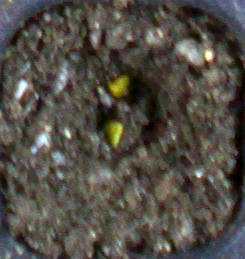pepper seed: (41, 44, 164, 194), (41, 23, 172, 123)
